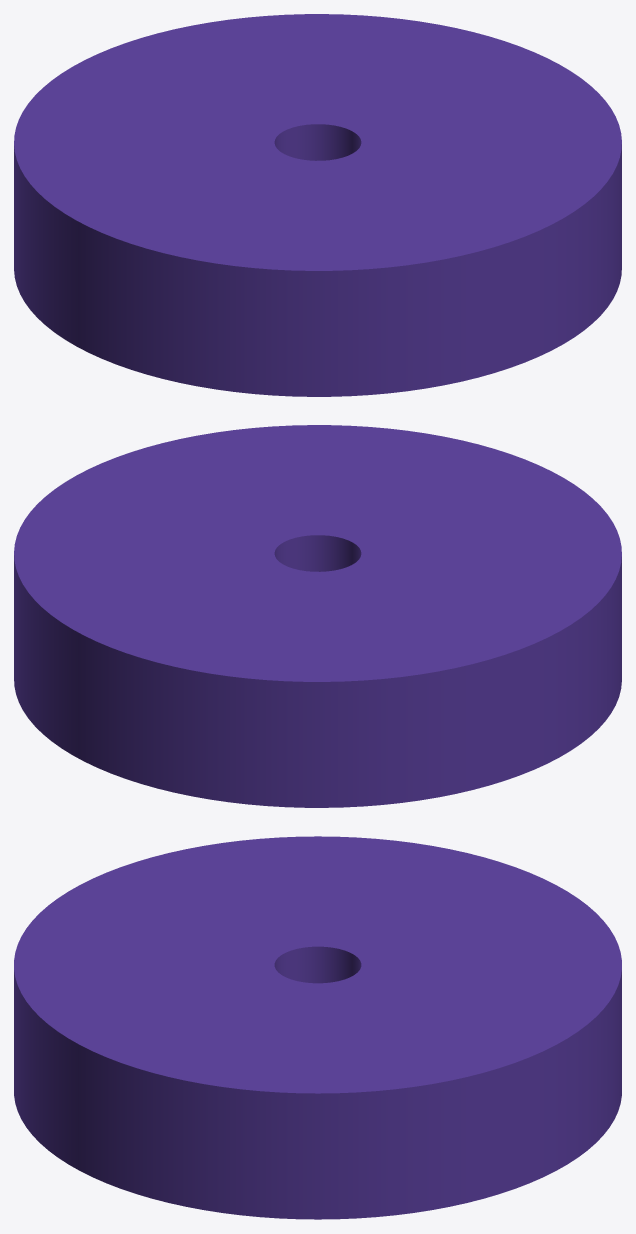
The model's file is Disk4.dae.
3 renders of one model, top to bottom at view 1: azimuth 30°, elevation 25°; view 2: azimuth 150°, elevation 25°; view 3: azimuth 270°, elevation 25°, orthographic.
Visible parts, largest first — view 1: ID2; view 2: ID2; view 3: ID2.
Part boxes in pixels (x1,y1,x2,y2): ID2: (14,14,621,396); ID2: (14,425,621,807); ID2: (14,836,621,1219).
Bounding box in the file's own units: 0.035 × 0.035 × 0.008.
